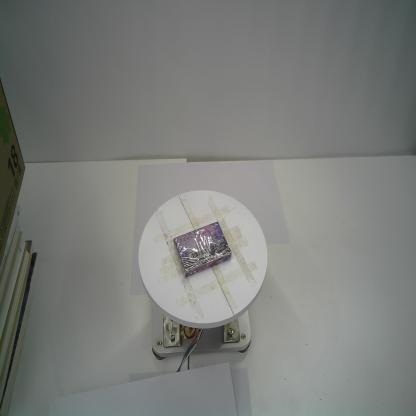Gum: (174, 221, 232, 279)
